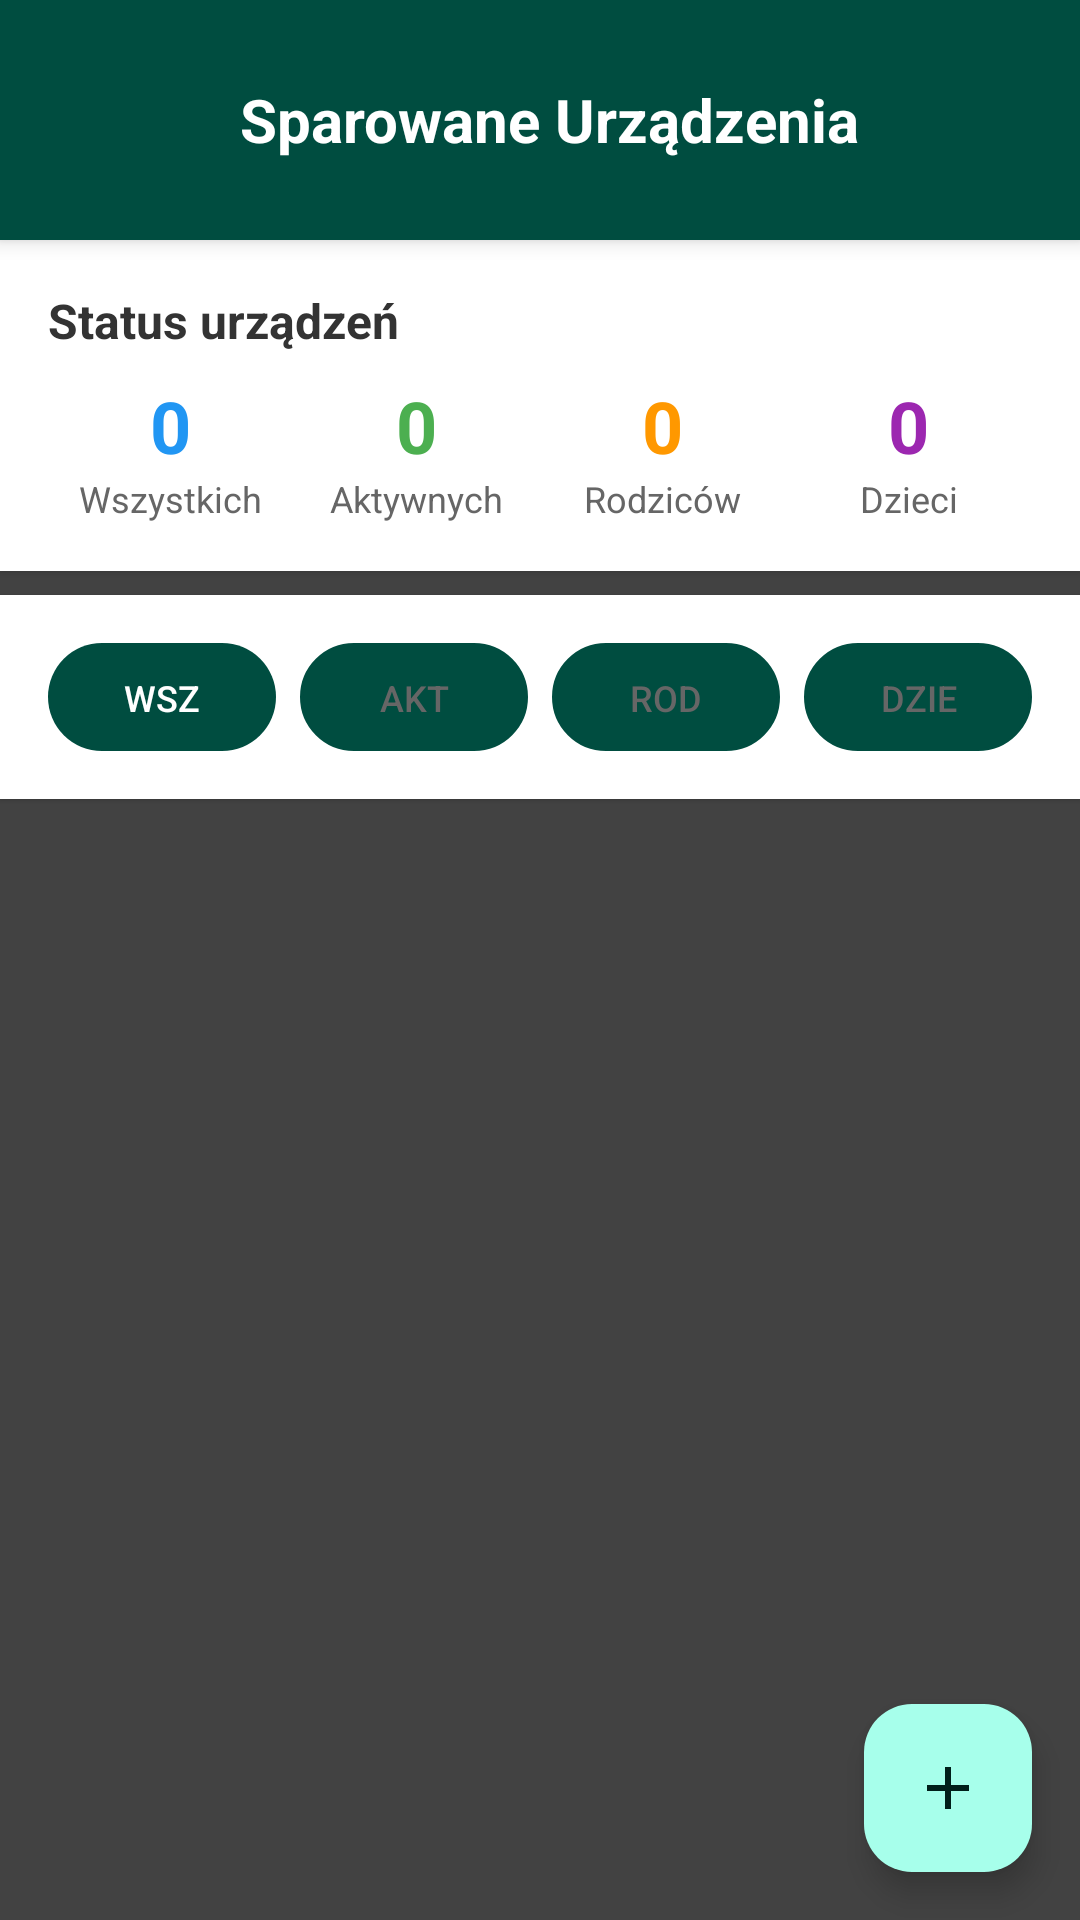

Named icons in this screenshot (1080px x 1920px) and their bounding boxes, box(x1, y1, x2, y2):
Dodaj urządzenie: box(864, 1704, 1032, 1872)
